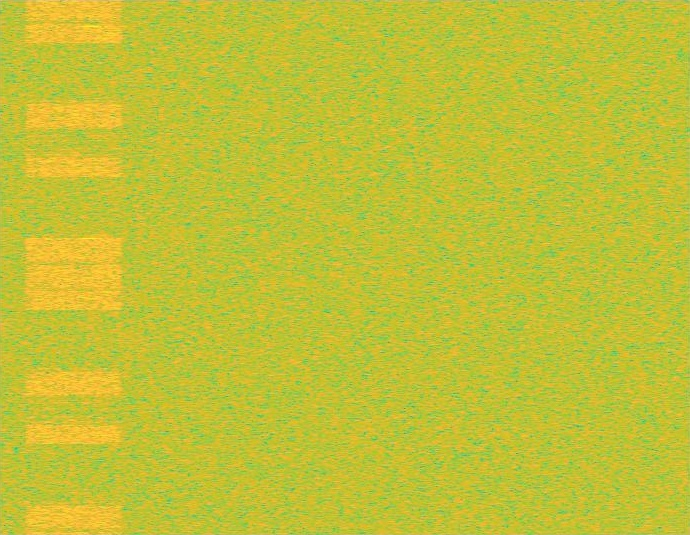LTE: (22, 0, 126, 534)
Radar: (83, 0, 97, 534)
